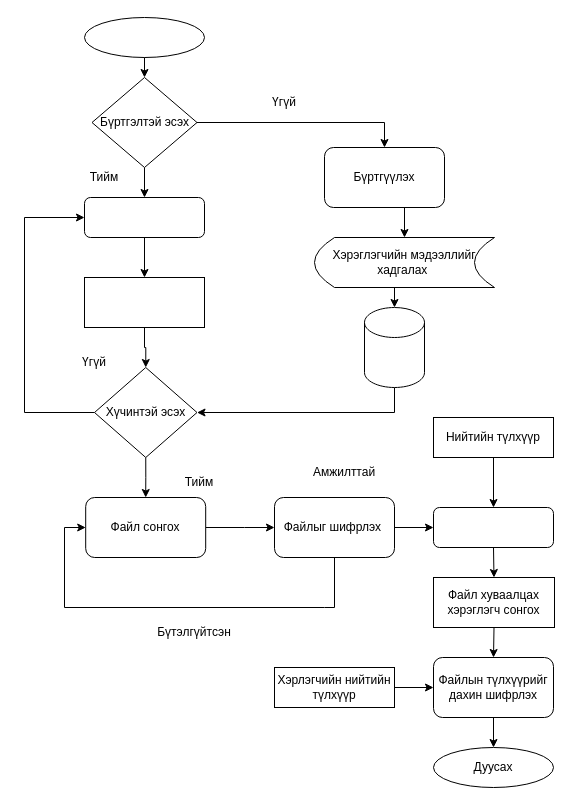
The diagram is 572 pixels wide and 805 high, and some of its shapes have lost their labels. The centre of each missing label's shape, as x and y in pixels:
Нэвтрэх: the point at 144,217
Нэвтрэх имейл нууц үг: the point at 144,302
Түлхүүрийг шифрлэх: the point at 493,527
Эхлэл: the point at 144,37
Өгөгдлийн сан: the point at 394,347
